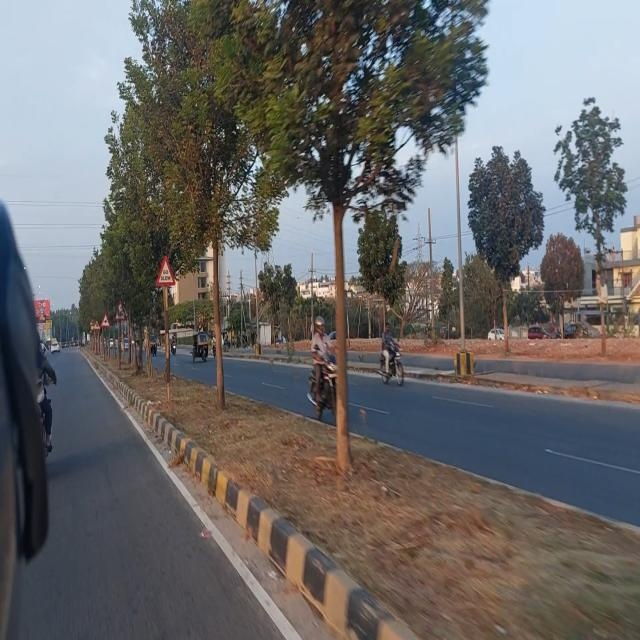bien_nguy_hiem: (156, 255, 175, 287), (101, 312, 109, 330)
